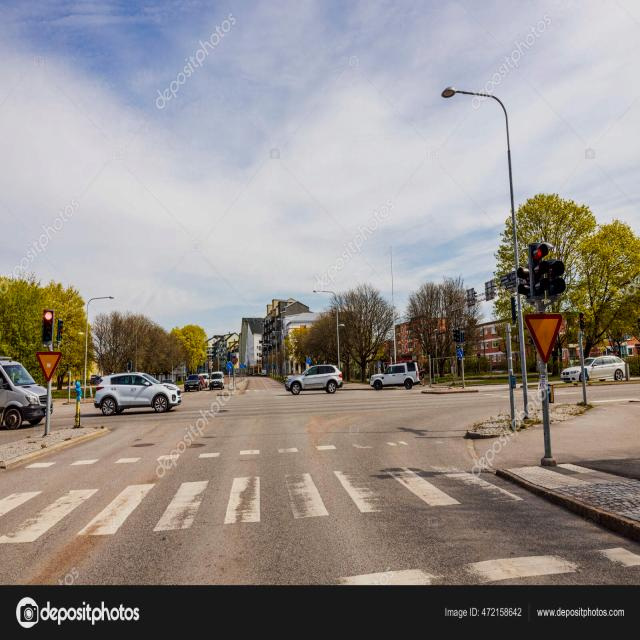Vehicle: (85, 357, 181, 422), (283, 357, 348, 408), (371, 360, 424, 394), (212, 368, 228, 392), (187, 375, 203, 393)
